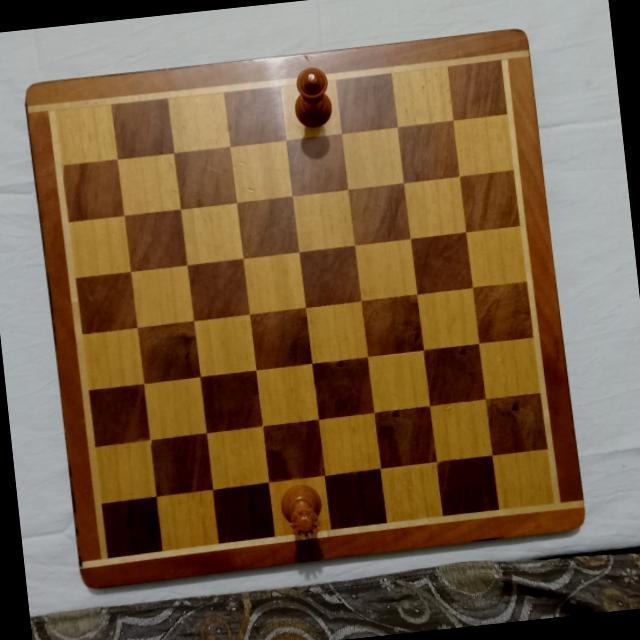white-king: (287, 63, 336, 133)
white-queen: (278, 480, 328, 539)
